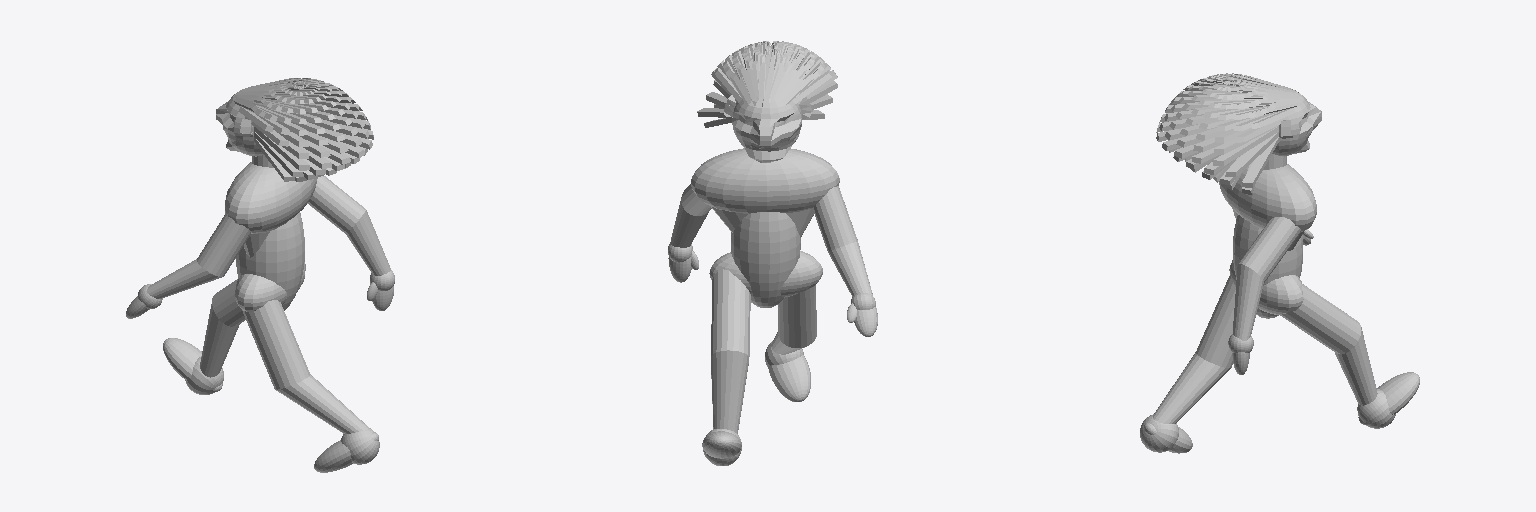
File: Runner.obj
The picture shows the model from 3 angles: view 1: azimuth 30°, elevation 25°; view 2: azimuth 150°, elevation 25°; view 3: azimuth 270°, elevation 25°; orthographic projection.
Visible parts, largest first — view 1: pSphere1, pCylinder5, pSphere3, pSphere2, pCylinder2, pCylinder3, pCylinder4, pSphere15, pSphere14, pSphere4, pSphere11; view 2: pSphere1, pSphere3, pCylinder4, pSphere2, pCylinder3, pCylinder5, pSphere15, pSphere4, pCylinder2, pSphere14, pSphere11, pCone1; view 3: pSphere1, pCylinder5, pCylinder4, pSphere3, pCylinder2, pSphere14, pSphere2, pSphere4, pSphere15.
Boxes of the visible parts, x1,y1,x2,y2 form: pSphere1: [216, 78, 373, 181]; pCylinder5: [242, 300, 368, 433]; pSphere3: [225, 162, 316, 233]; pSphere2: [235, 212, 304, 310]; pCylinder2: [307, 176, 390, 275]; pCylinder3: [147, 213, 250, 298]; pCylinder4: [200, 278, 245, 377]; pSphere15: [314, 428, 379, 472]; pSphere14: [163, 338, 223, 394]; pSphere4: [235, 262, 305, 311]; pSphere11: [126, 284, 162, 318]; pSphere1: [697, 41, 837, 161]; pSphere3: [691, 148, 839, 213]; pCylinder4: [711, 269, 750, 433]; pSphere2: [731, 212, 800, 307]; pCylinder3: [813, 186, 872, 296]; pCylinder5: [771, 285, 816, 354]; pSphere15: [765, 341, 810, 401]; pSphere4: [709, 251, 822, 297]; pCylinder2: [670, 184, 711, 247]; pSphere14: [702, 429, 741, 465]; pSphere11: [847, 293, 877, 336]; pCone1: [711, 207, 813, 237]; pSphere1: [1156, 73, 1321, 194]; pCylinder5: [1153, 275, 1235, 423]; pCylinder4: [1279, 284, 1377, 405]; pSphere3: [1219, 164, 1316, 231]; pCylinder2: [1233, 217, 1300, 340]; pSphere14: [1357, 372, 1419, 428]; pSphere2: [1233, 215, 1302, 318]; pSphere4: [1229, 260, 1303, 314]; pSphere15: [1140, 414, 1192, 453].
Size of the model in its own units: 7.71 by 11.54 by 7.92.